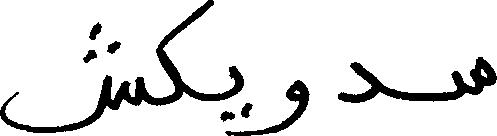X: (0, 17, 142, 135), (156, 0, 211, 110), (453, 52, 496, 104), (337, 57, 377, 107), (286, 75, 308, 132), (227, 61, 243, 135)
